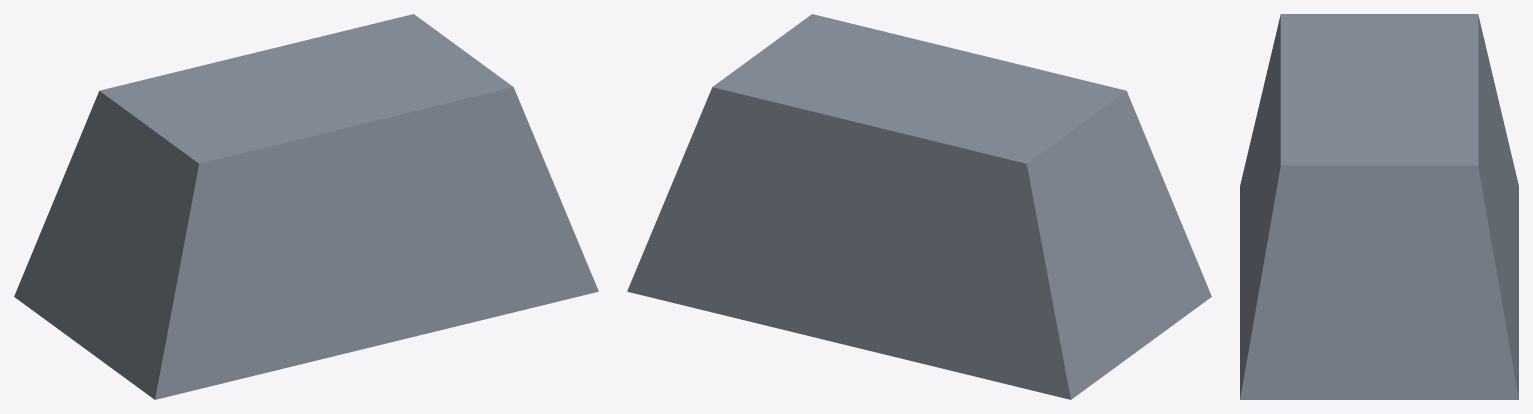
File: barra_aco.glb
3 renders of one model, left to right at view 1: azimuth 30°, elevation 25°; view 2: azimuth 150°, elevation 25°; view 3: azimuth 270°, elevation 25°, orthographic.
Visible parts, largest first — view 1: barra_aco; view 2: barra_aco; view 3: barra_aco.
Part boxes in pixels (left/top/right/bottom): barra_aco: left=14, top=14, right=598, bottom=399; barra_aco: left=627, top=14, right=1211, bottom=399; barra_aco: left=1240, top=14, right=1518, bottom=399.
Size of the model in its own units: 0.1697 by 0.075 by 0.0933.
